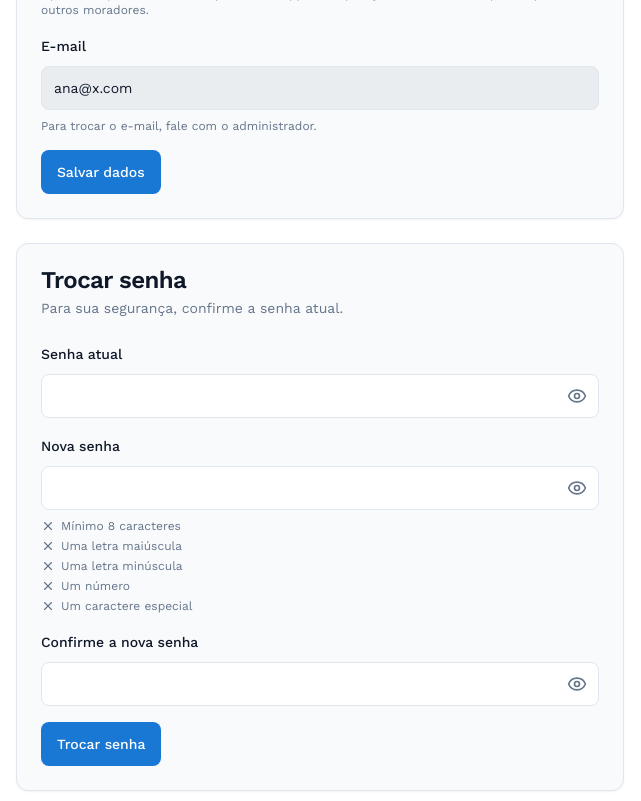
Test: MyProfilePage — trocar senha › senha reutilizada mostra a mensagem do backend
(page scrolled)
In the password field labelled "Senha atual": (320, 396) [41,374,599,418], type "Atual@123"
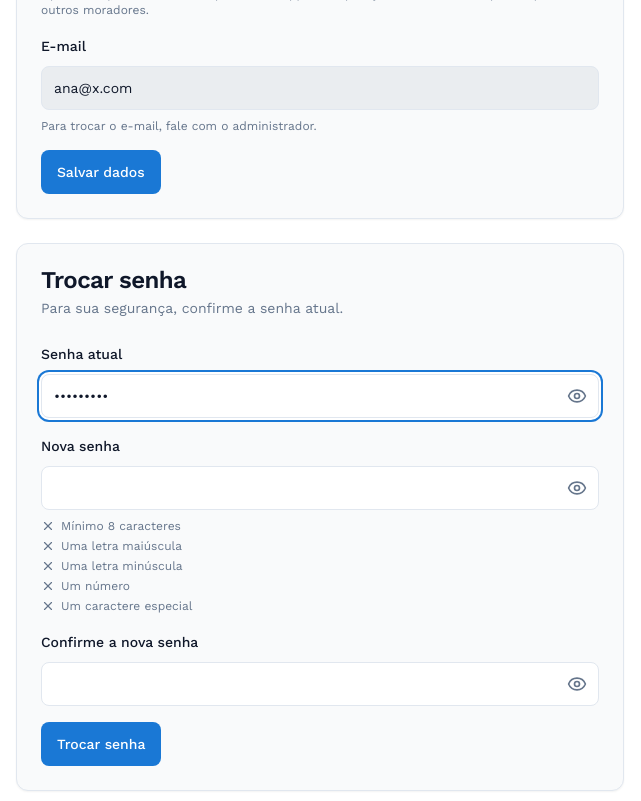
In the password field labelled "Nova senha": (320, 488) [41,466,599,510], type "Antiga@123"
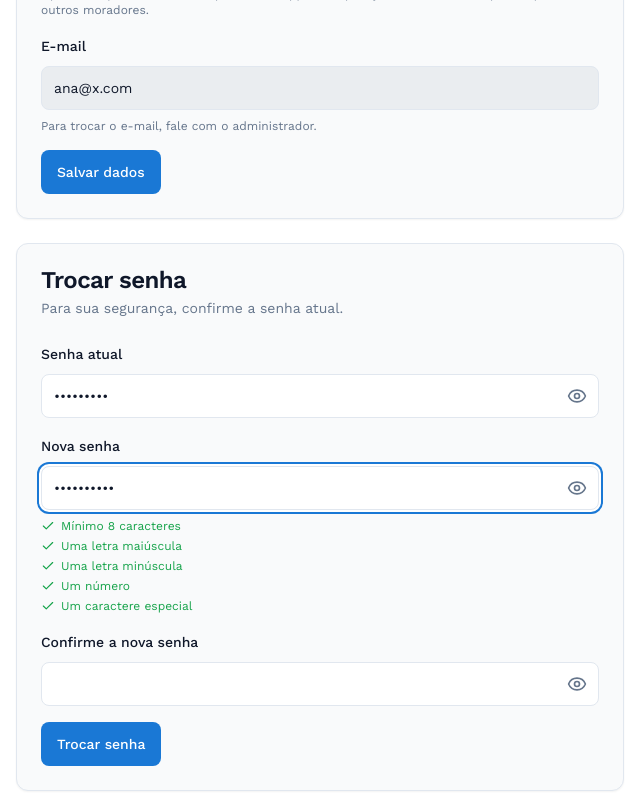
In the password field labelled "Confirme a nova senha": (320, 684) [41,662,599,706], type "Antiga@123"
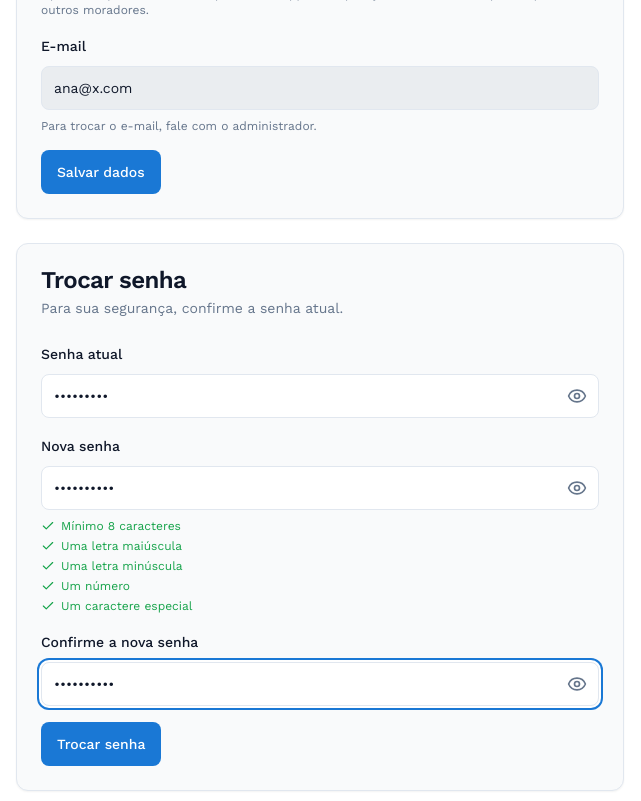
Click the button "Trocar senha": (101, 744) [41,722,161,766]
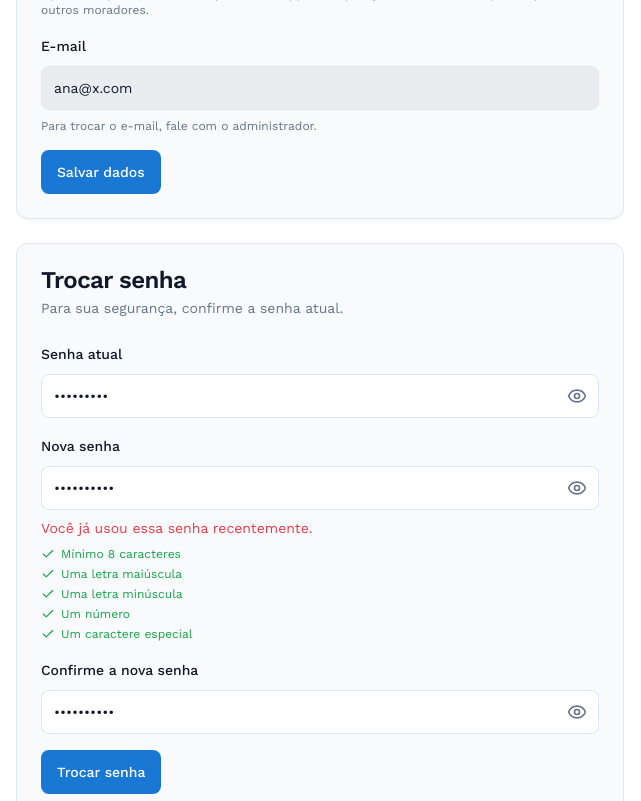
Expected: the text "Você já usou essa senha recentemente." is shown, [41,520,312,536]
